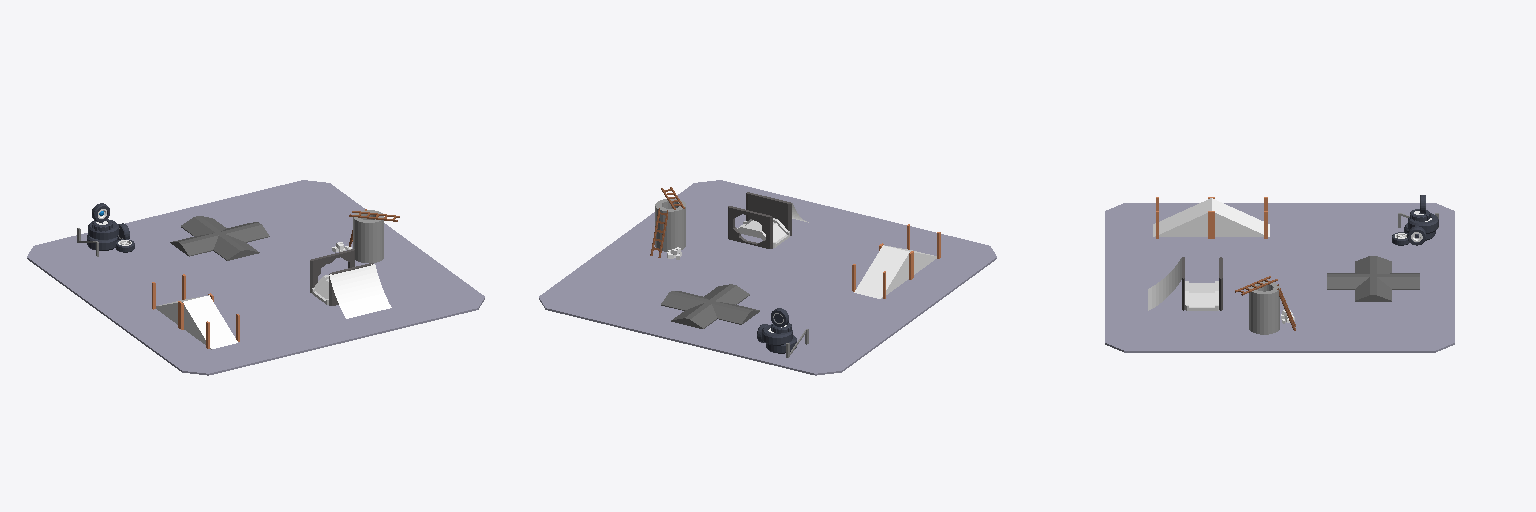
Rendered from AyeeGameScene.model.obj.
The picture shows the model from 3 angles: view 1: azimuth 30°, elevation 25°; view 2: azimuth 150°, elevation 25°; view 3: azimuth 270°, elevation 25°; orthographic projection.
Parts seen in each view (by area): view 1: floor_square_0, roof_canvas_26, slope_default_2, cylinder_hollow_13, awning_corner_inner_9, awning_corner_inner_8, wall_straightHole_4, awning_corner_inner_10; view 2: floor_square_0, slope_default_3, cylinder_hollow_13, awning_corner_inner_10, wall_straightCrack_5, wall_straightHole_4, awning_corner_inner_11, roof_window_1, awning_corner_inner_9; view 3: floor_square_0, cylinder_hollow_13, slope_default_2, slope_default_3, roof_window_1, awning_corner_inner_11, awning_corner_inner_8, roof_canvas_26.
Part boxes in pixels (x1,y1,x2,y2): floor_square_0: (27, 180, 484, 375); roof_canvas_26: (329, 264, 391, 318); slope_default_2: (182, 295, 237, 349); cylinder_hollow_13: (353, 210, 383, 262); awning_corner_inner_9: (180, 234, 242, 260); awning_corner_inner_8: (220, 224, 269, 256); wall_straightHole_4: (310, 249, 354, 292); awning_corner_inner_10: (170, 216, 219, 249); floor_square_0: (539, 180, 996, 375); slope_default_3: (854, 245, 909, 298); cylinder_hollow_13: (655, 199, 685, 251); awning_corner_inner_10: (687, 302, 750, 328); wall_straightCrack_5: (746, 192, 791, 235); wall_straightHole_4: (728, 206, 772, 248); awning_corner_inner_11: (661, 292, 709, 324); roof_window_1: (737, 218, 789, 247); awning_corner_inner_9: (711, 285, 759, 317); floor_square_0: (1105, 203, 1454, 352); cylinder_hollow_13: (1249, 281, 1279, 334); slope_default_2: (1153, 198, 1211, 236); slope_default_3: (1212, 198, 1269, 236); roof_window_1: (1185, 281, 1218, 310); awning_corner_inner_11: (1373, 276, 1419, 301); awning_corner_inner_8: (1327, 276, 1372, 301); roof_canvas_26: (1148, 258, 1181, 310).
Bounding box in the file's own units: 11.25 × 1.65 × 11.25.